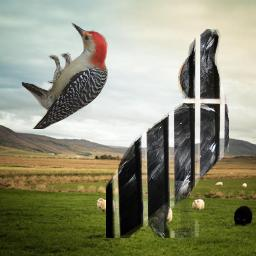Crow: (106, 29, 229, 238)
Woodpecker: (22, 22, 111, 129)
